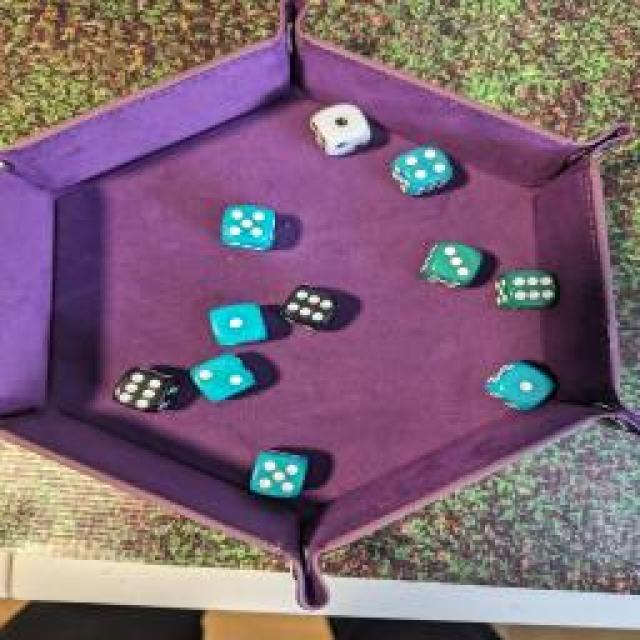dice_1: (476, 355, 556, 415), (306, 100, 382, 160), (205, 300, 275, 350)
dice_2: (185, 346, 260, 406)
dice_3: (412, 235, 482, 290)
dice_4: (382, 136, 458, 202)
dice_5: (211, 200, 284, 255), (242, 444, 308, 504)
dice_6: (106, 361, 182, 421), (278, 278, 348, 334), (491, 265, 564, 313)
